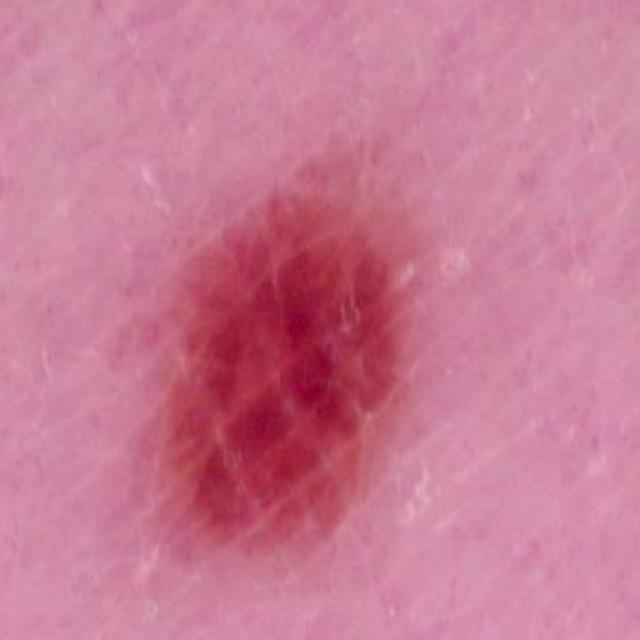NV: (147, 159, 413, 618)
